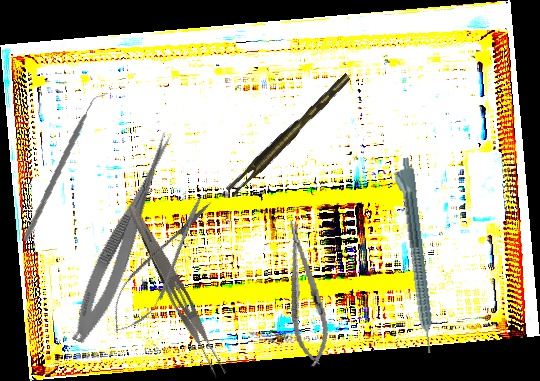Chopper: (10, 93, 122, 241)
Dressing Forceps: (119, 202, 231, 381)
Handpiece: (390, 156, 437, 356)
Micro Scissor: (65, 125, 180, 349), (98, 186, 224, 344)
Needle Holder: (276, 217, 335, 370)
Tissue Forceps: (222, 73, 357, 197)
